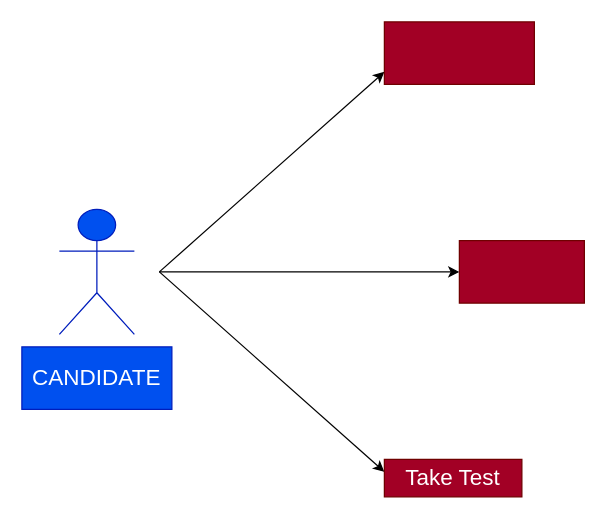
The diagram is 606 pixels wide and 519 high, and some of its shapes have lost their labels. Each missing label, with the centre of its shape:
Register: the point at 458,52
View Topics: the point at 521,271
